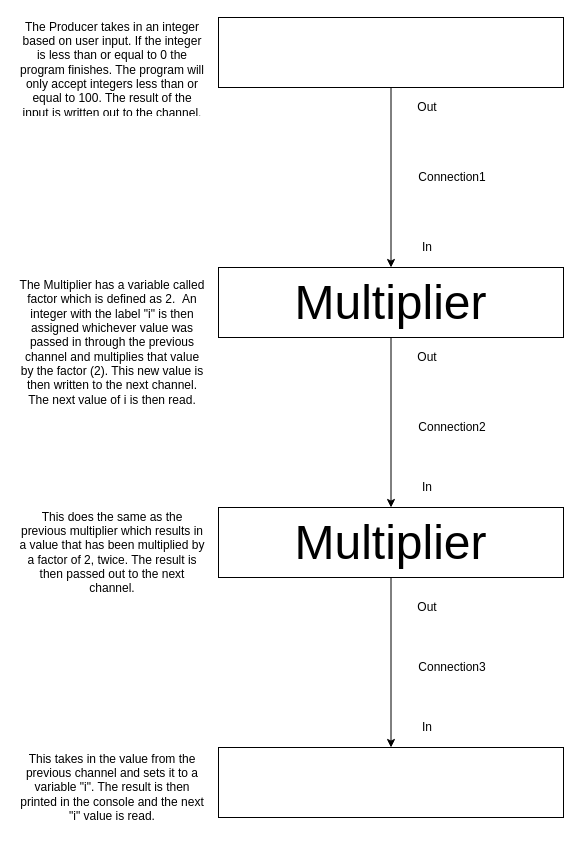
Image size: 581x845. Some labels were removed from this diagram. Here are the shapes that lost their labels. From the top down, the centre of each, then its label:
the point at 391,52: Producer
the point at 391,782: Consumer
